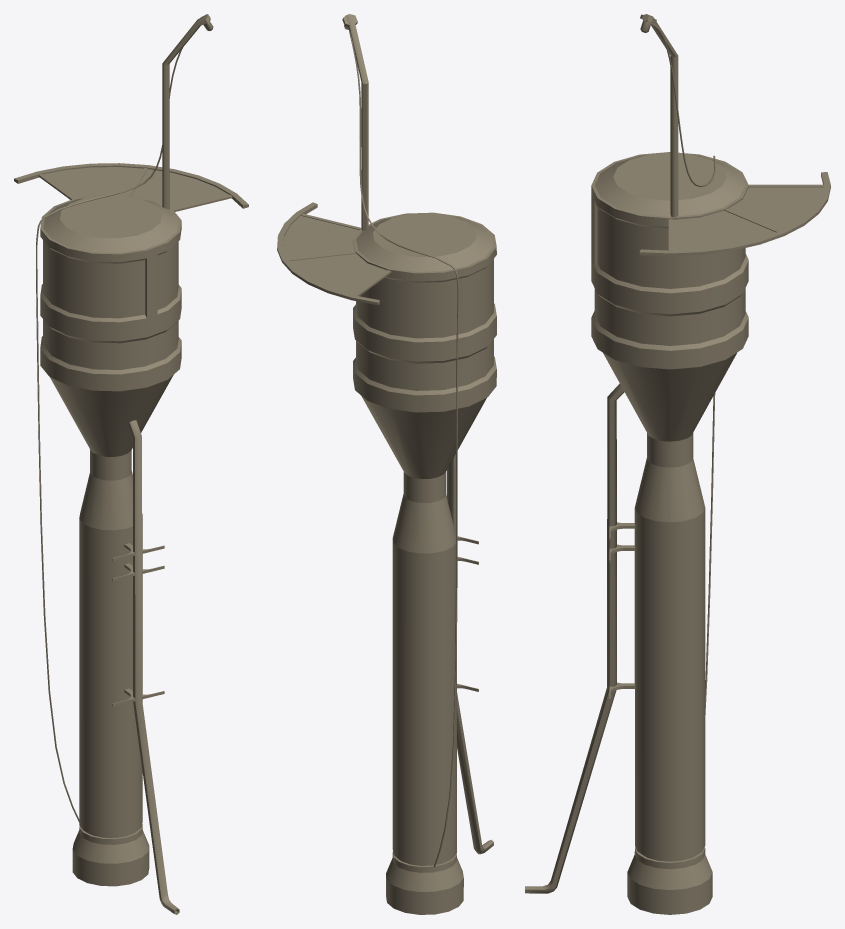
Rendered from savHubWaterTower.fbx.
The picture shows the model from 3 angles, left to right: view 1: azimuth 30°, elevation 25°; view 2: azimuth 150°, elevation 25°; view 3: azimuth 270°, elevation 25°; orthographic projection. The views are drawn at different scales.
Parts seen in each view (by area): view 1: savHubWaterTower_LOD0; view 2: savHubWaterTower_LOD0; view 3: savHubWaterTower_LOD0.
Part boxes in pixels (left/top/right/bottom): savHubWaterTower_LOD0: left=14, top=14, right=248, bottom=914; savHubWaterTower_LOD0: left=277, top=14, right=496, bottom=914; savHubWaterTower_LOD0: left=525, top=14, right=830, bottom=914.
Size of what is drawn, in the model's own units: 420 by 1797 by 536.
